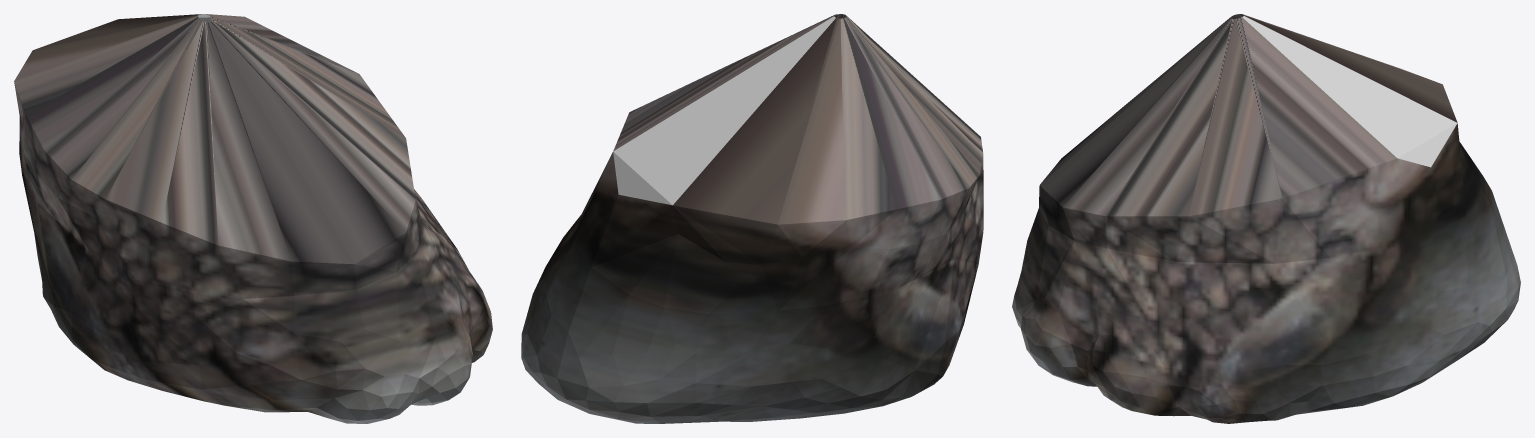
Rendered from Tortoise_RightRearleg.dae.
3 renders of one model, left to right at view 1: azimuth 30°, elevation 25°; view 2: azimuth 150°, elevation 25°; view 3: azimuth 270°, elevation 25°, orthographic. The views are drawn at different scales.
Visible parts, largest first — view 1: tortoise_002; view 2: tortoise_002; view 3: tortoise_002.
Boxes of the visible parts, x1,y1,x2,y2 form: tortoise_002: (14,14,492,423); tortoise_002: (521,14,983,423); tortoise_002: (1012,14,1520,423).
Size of the model in its own units: 0.1435 by 0.1874 by 0.126.
Materials: 2 (1 with a texture image).
